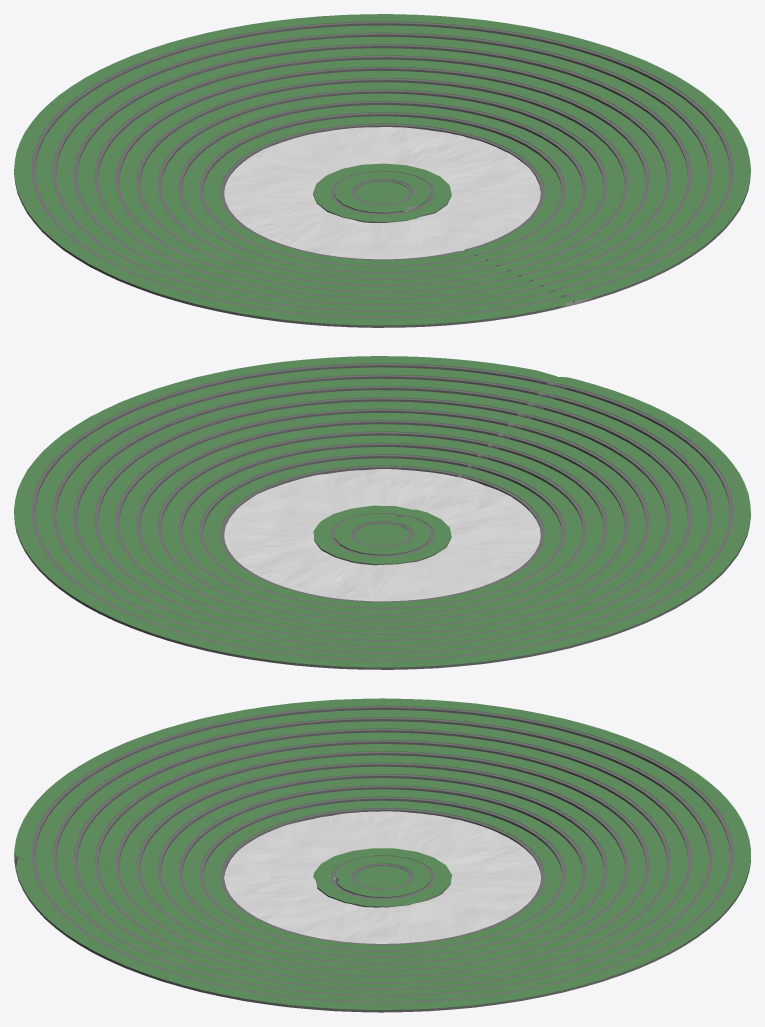
File: G_Amphitheater.fbx
3 views of the same model, one above another, from view 1: azimuth 30°, elevation 25°; view 2: azimuth 150°, elevation 25°; view 3: azimuth 270°, elevation 25° (orthographic).
Visible parts, largest first — view 1: Cube.003, Cylinder; view 2: Cube.003, Cylinder; view 3: Cube.003, Cylinder.
Part boxes in pixels (x1=…): Cube.003: x1=14, y1=14, x2=750, y2=327; Cylinder: x1=224, y1=127, x2=540, y2=259; Cube.003: x1=14, y1=356, x2=750, y2=669; Cylinder: x1=224, y1=469, x2=540, y2=601; Cube.003: x1=14, y1=698, x2=750, y2=1012; Cylinder: x1=224, y1=811, x2=540, y2=943.
Bounding box in the file's own units: 14038 × 729 × 14031.
